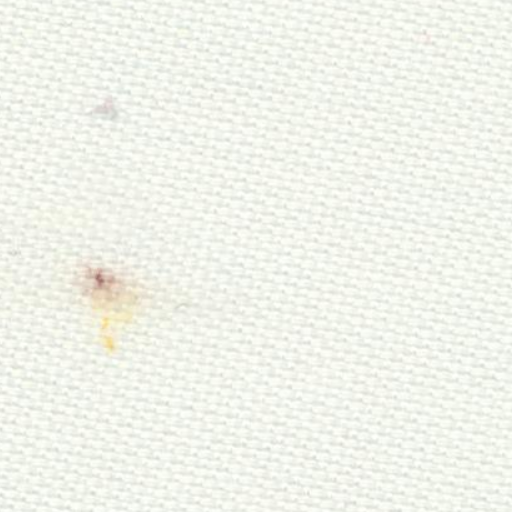WuZi: (66, 243, 148, 362), (77, 86, 145, 138)
